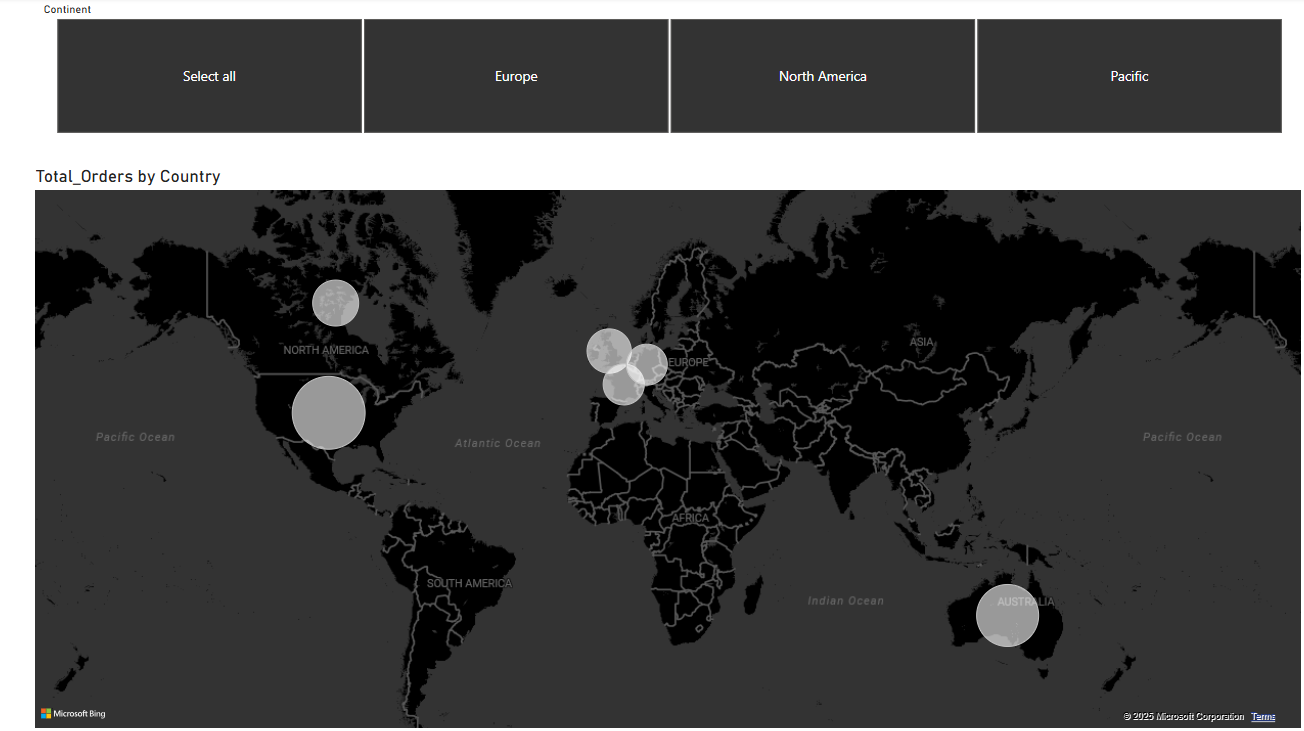

Layout of this report page (visuals, bound fields, positions):
{"tool":"powerbi","page":{"name":"Page 6","canvas":[1280,720],"ordinal":6},"visuals":[{"type":"map","fields":{"Category":["Territory Lookup.Country"],"Size":["Measure_Table.Total_Orders"]},"box":[31.7,164.5,1248,555.5],"z":0},{"type":"slicer","fields":{"Values":["Territory Lookup.Continent"]},"box":[31.7,0,1248,139.9],"z":1000}]}

Visuals, with their boxes in screenshot pixels (x1, y1, x2, y2), scaled from the page's 1280x720 canvas onto the 1304x731 screenshot:
map - Territory Lookup.Country x Measure_Table.Total_Orders: bbox(32, 167, 1303, 730)
slicer - Territory Lookup.Continent: bbox(32, 0, 1303, 142)
